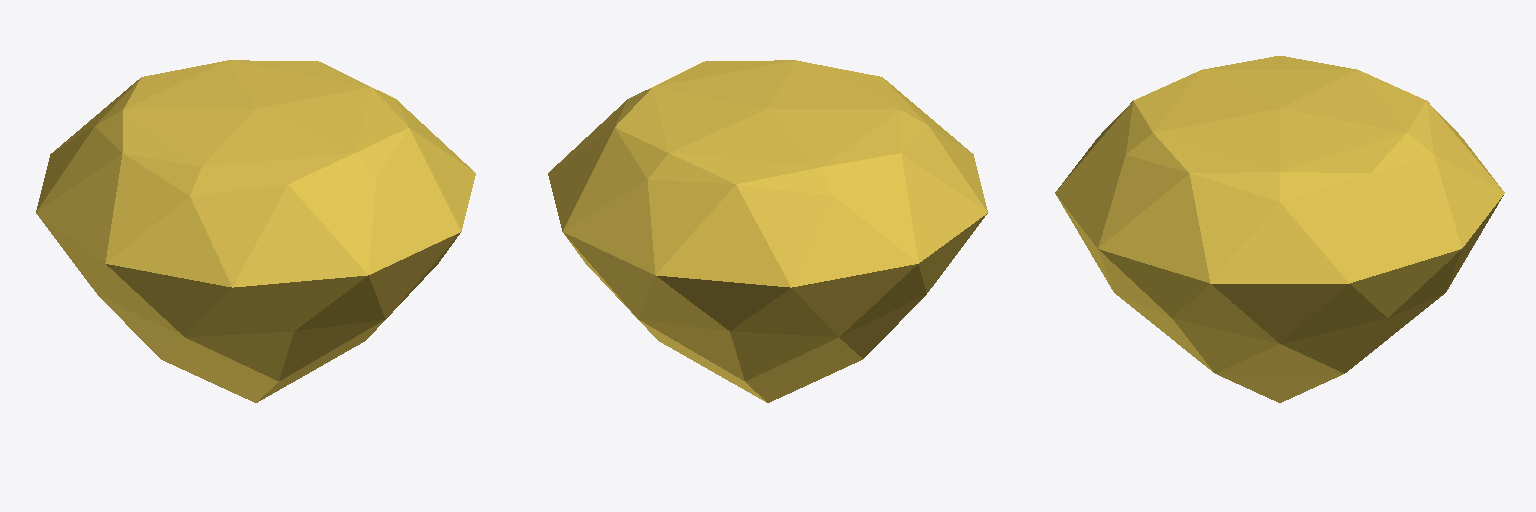
File: gem.obj
The picture shows the model from 3 angles: view 1: azimuth 30°, elevation 25°; view 2: azimuth 150°, elevation 25°; view 3: azimuth 270°, elevation 25°; orthographic projection.
Visible parts, largest first — view 1: GeoSphere001; view 2: GeoSphere001; view 3: GeoSphere001.
Boxes of the visible parts, x1=… form: GeoSphere001: x1=36, y1=60, x2=475, y2=402; GeoSphere001: x1=548, y1=60, x2=987, y2=402; GeoSphere001: x1=1055, y1=56, x2=1504, y2=402.
Size of the model in its own units: 30.67 by 23.3 by 32.24.